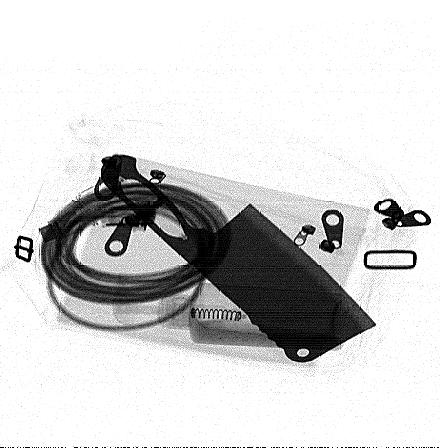Knife: (99, 153, 378, 364)
